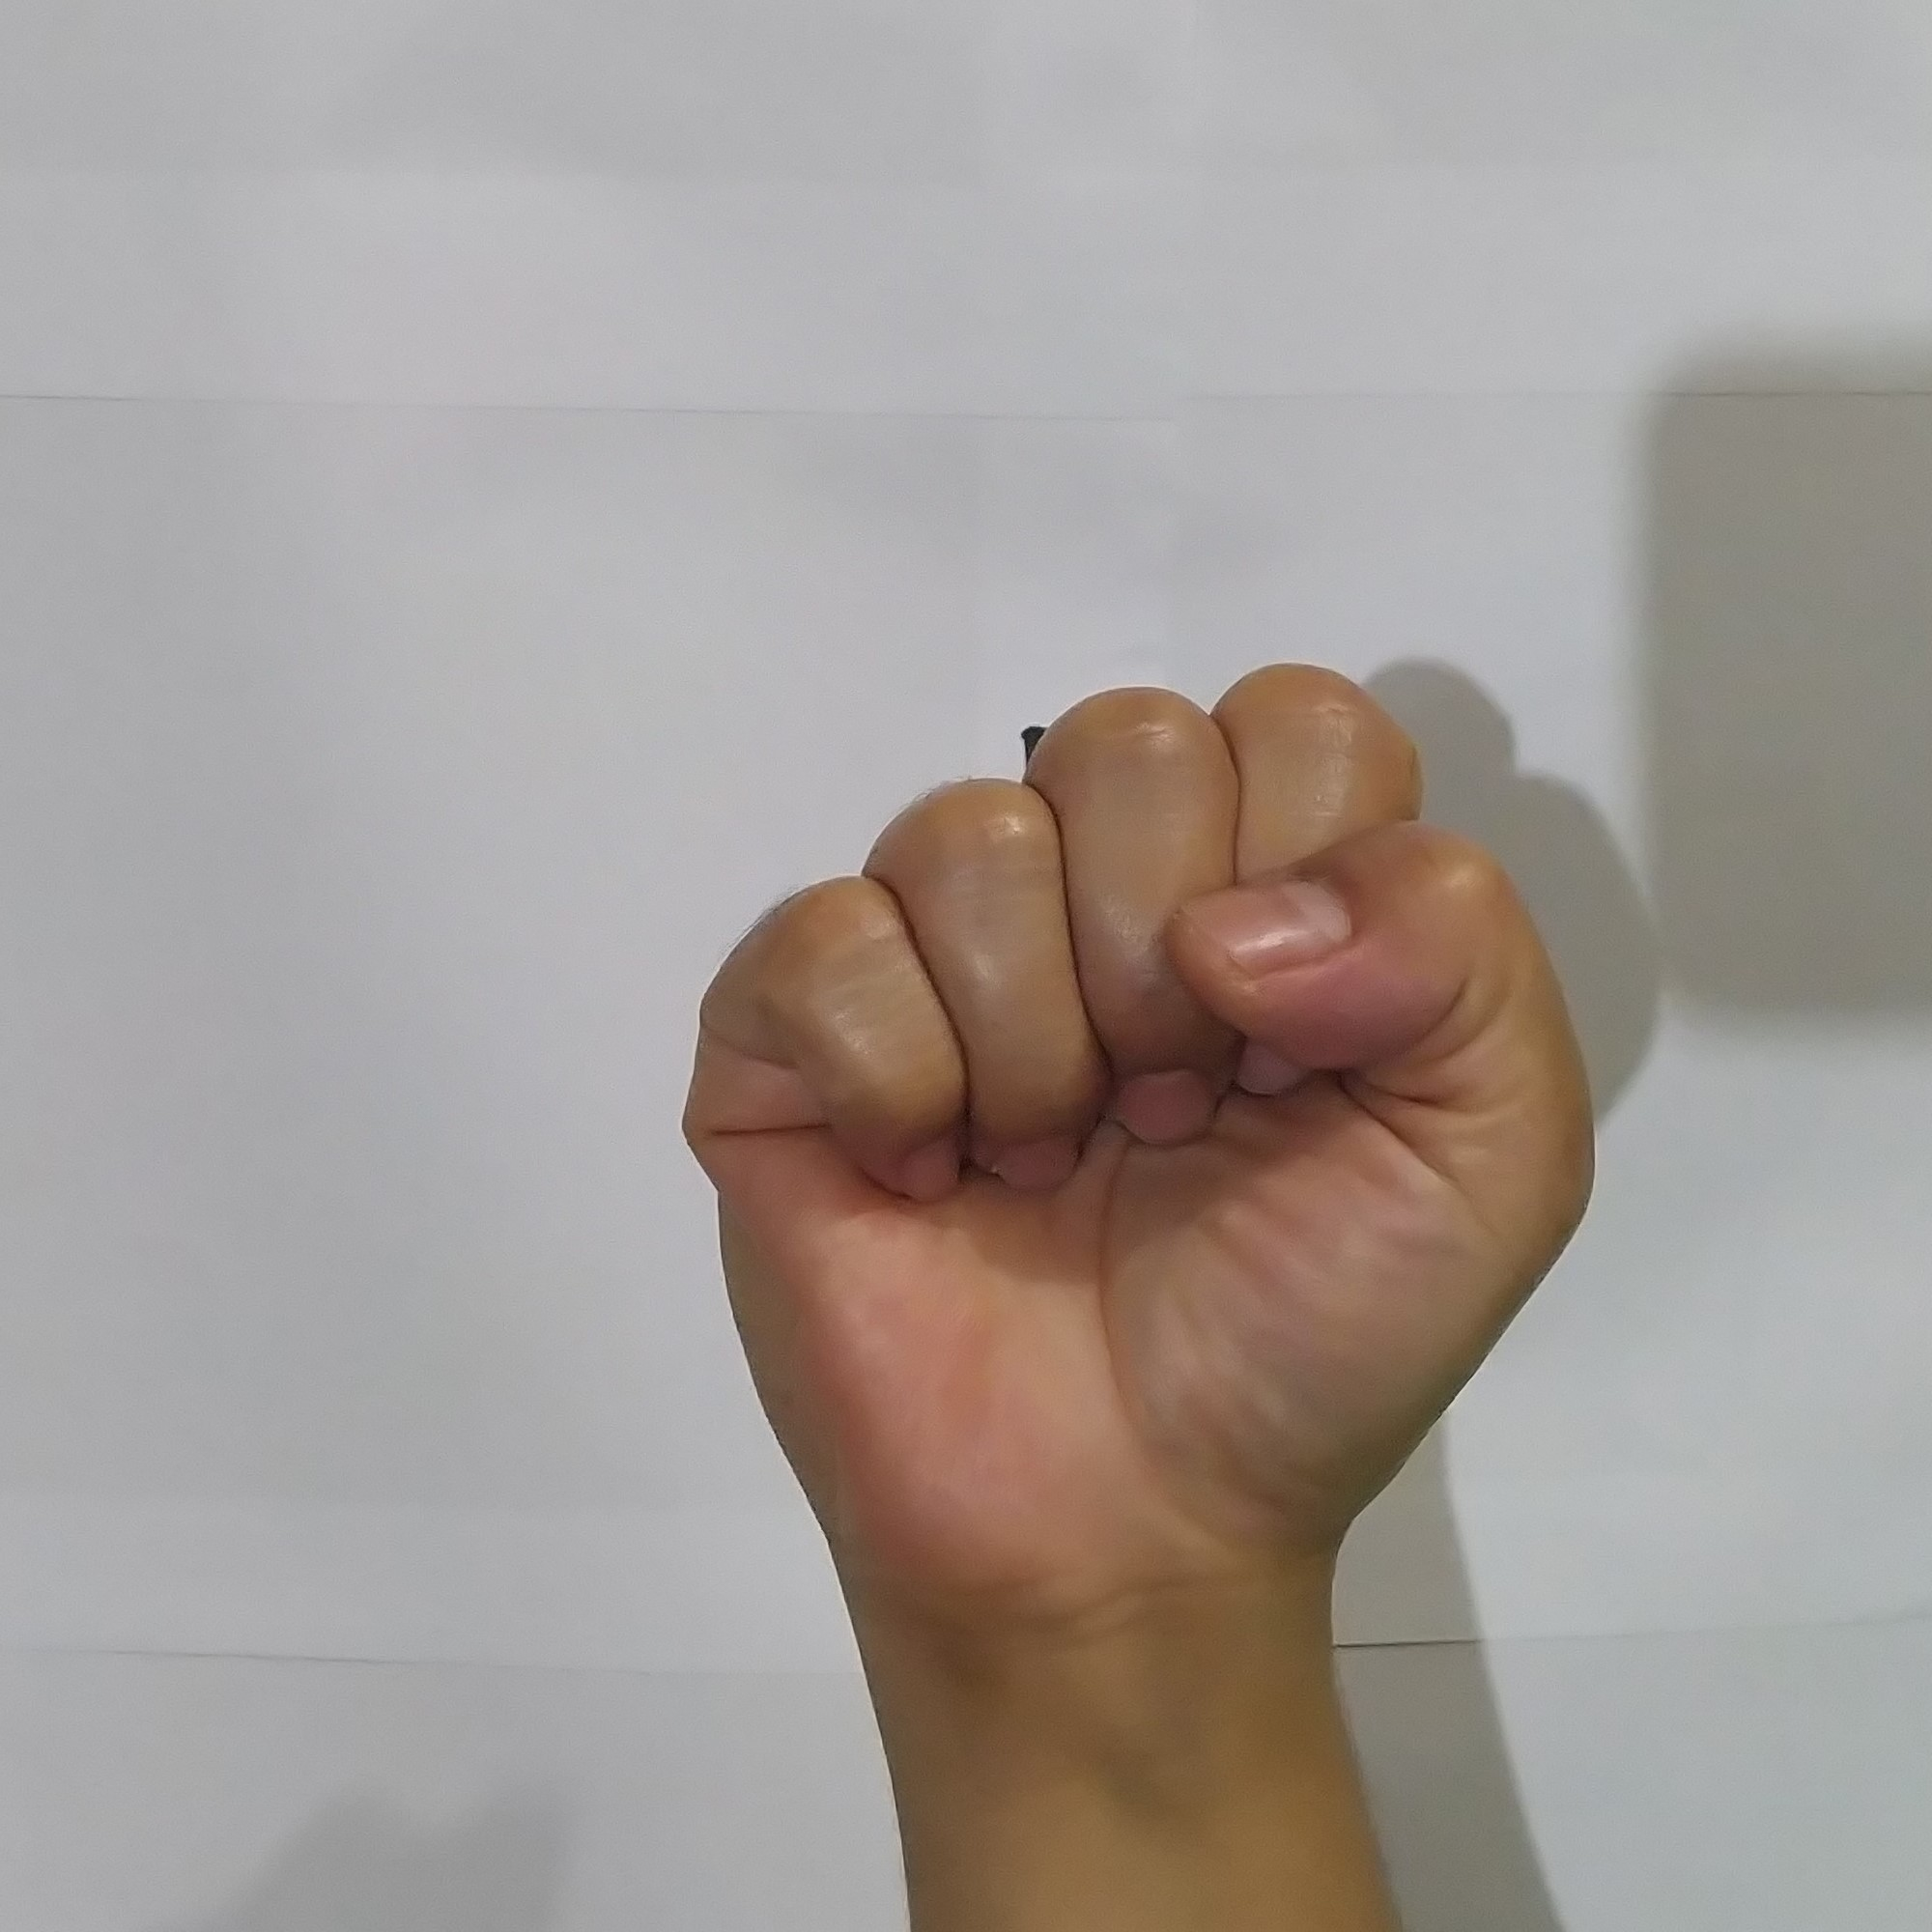S: (653, 633, 1624, 1612)
